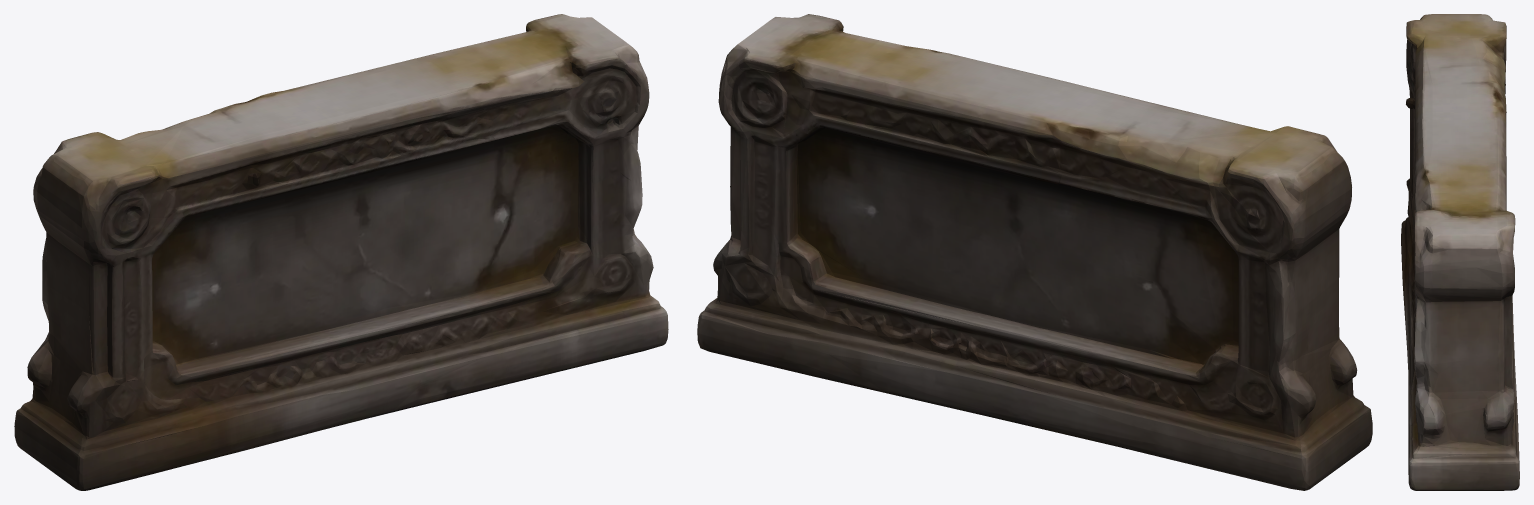
File: sarcophagus_stone.glb
3 renders of one model, left to right at view 1: azimuth 30°, elevation 25°; view 2: azimuth 150°, elevation 25°; view 3: azimuth 270°, elevation 25°, orthographic. The views are drawn at different scales.
Visible parts, largest first — view 1: geometry_0; view 2: geometry_0; view 3: geometry_0.
Part boxes in pixels (x1,y1,x2,y2): geometry_0: (14, 14, 668, 490); geometry_0: (697, 14, 1372, 490); geometry_0: (1401, 14, 1519, 490).
Bounding box in the file's own units: 0.9988 × 0.4805 × 0.208.
1 material, 1 textured.
